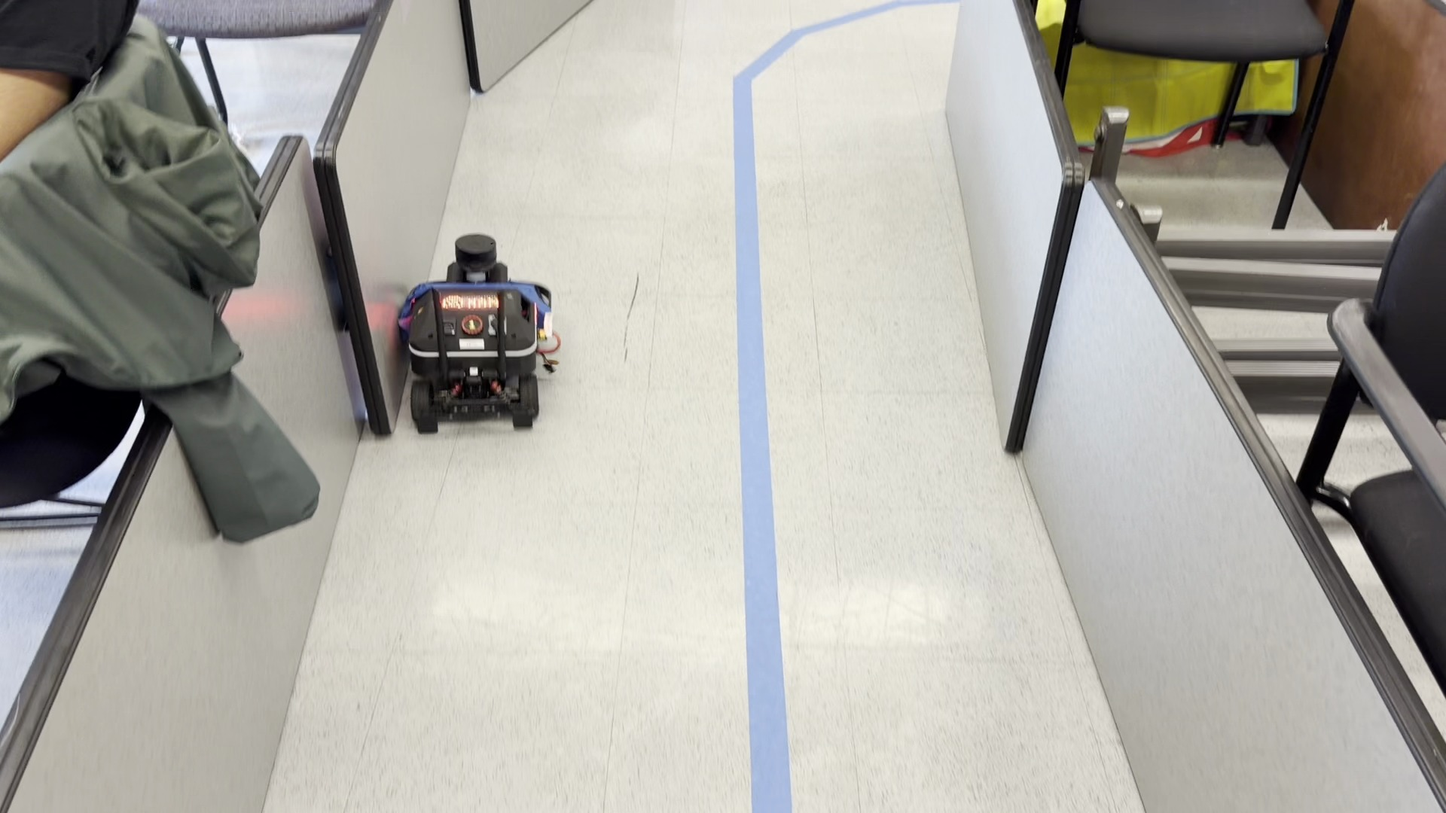racecar: (393, 236, 558, 434)
